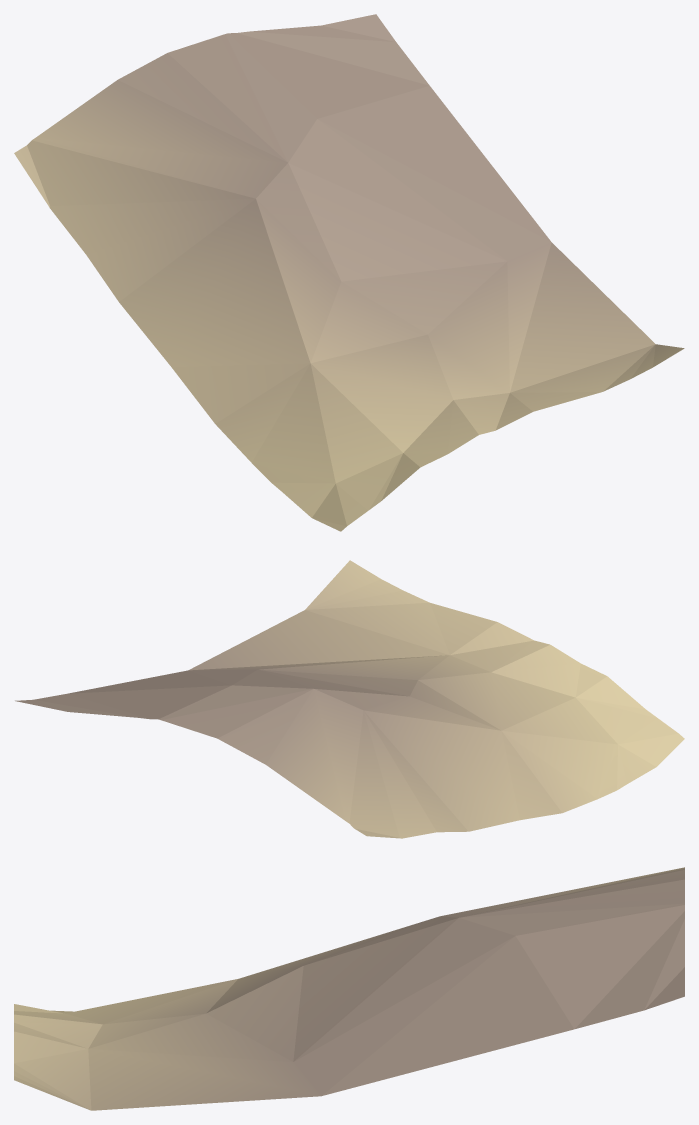
File: bisect-9-0-2.gltf
3 views of the same model, one above another, from view 1: azimuth 30°, elevation 25°; view 2: azimuth 150°, elevation 25°; view 3: azimuth 270°, elevation 25° (orthographic). The views are drawn at different scales.
Parts seen in each view (by area): view 1: bisect-9-0-2; view 2: bisect-9-0-2; view 3: bisect-9-0-2.
Boxes of the visible parts, left/top/right/bottom form: bisect-9-0-2: left=14, top=14, right=684, bottom=531; bisect-9-0-2: left=15, top=560, right=684, bottom=838; bisect-9-0-2: left=14, top=867, right=684, bottom=1110.
Bounding box in the file's own units: 12.8 × 7.24 × 20.
